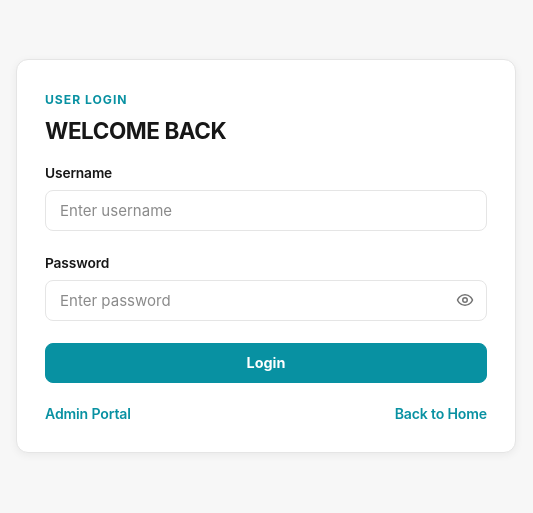
User and Admin Login Integration › handles backend network unavailability and CORS blocks gracefully
The image size is (533, 513).
In the field with placeholder "Enter username": (266, 211) [45,190,487,231], type "validuser"
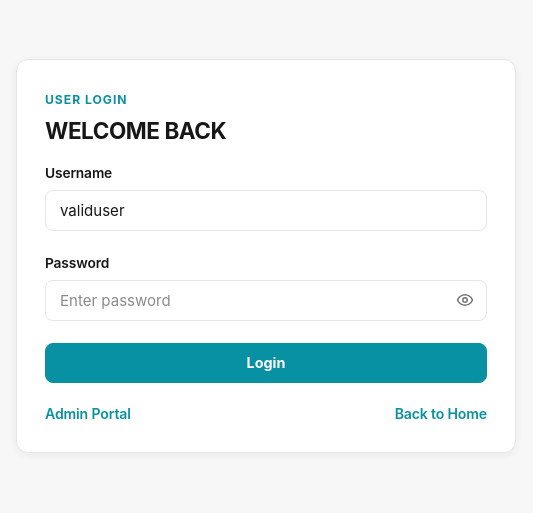
In the password field with placeholder "Enter password": (266, 300) [45,280,487,321], type "password123"
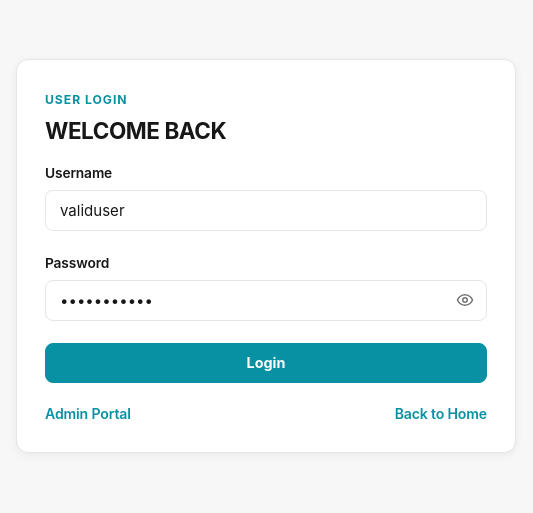
Click the button "Login": (266, 363) [45,343,487,383]
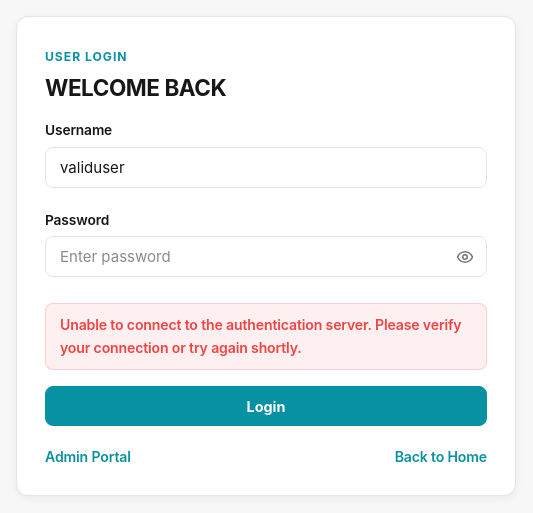
Expected: the text "Unable to connect to the authentication server. Please verify your connection or try again shortly." is shown, [60,316,461,356]
